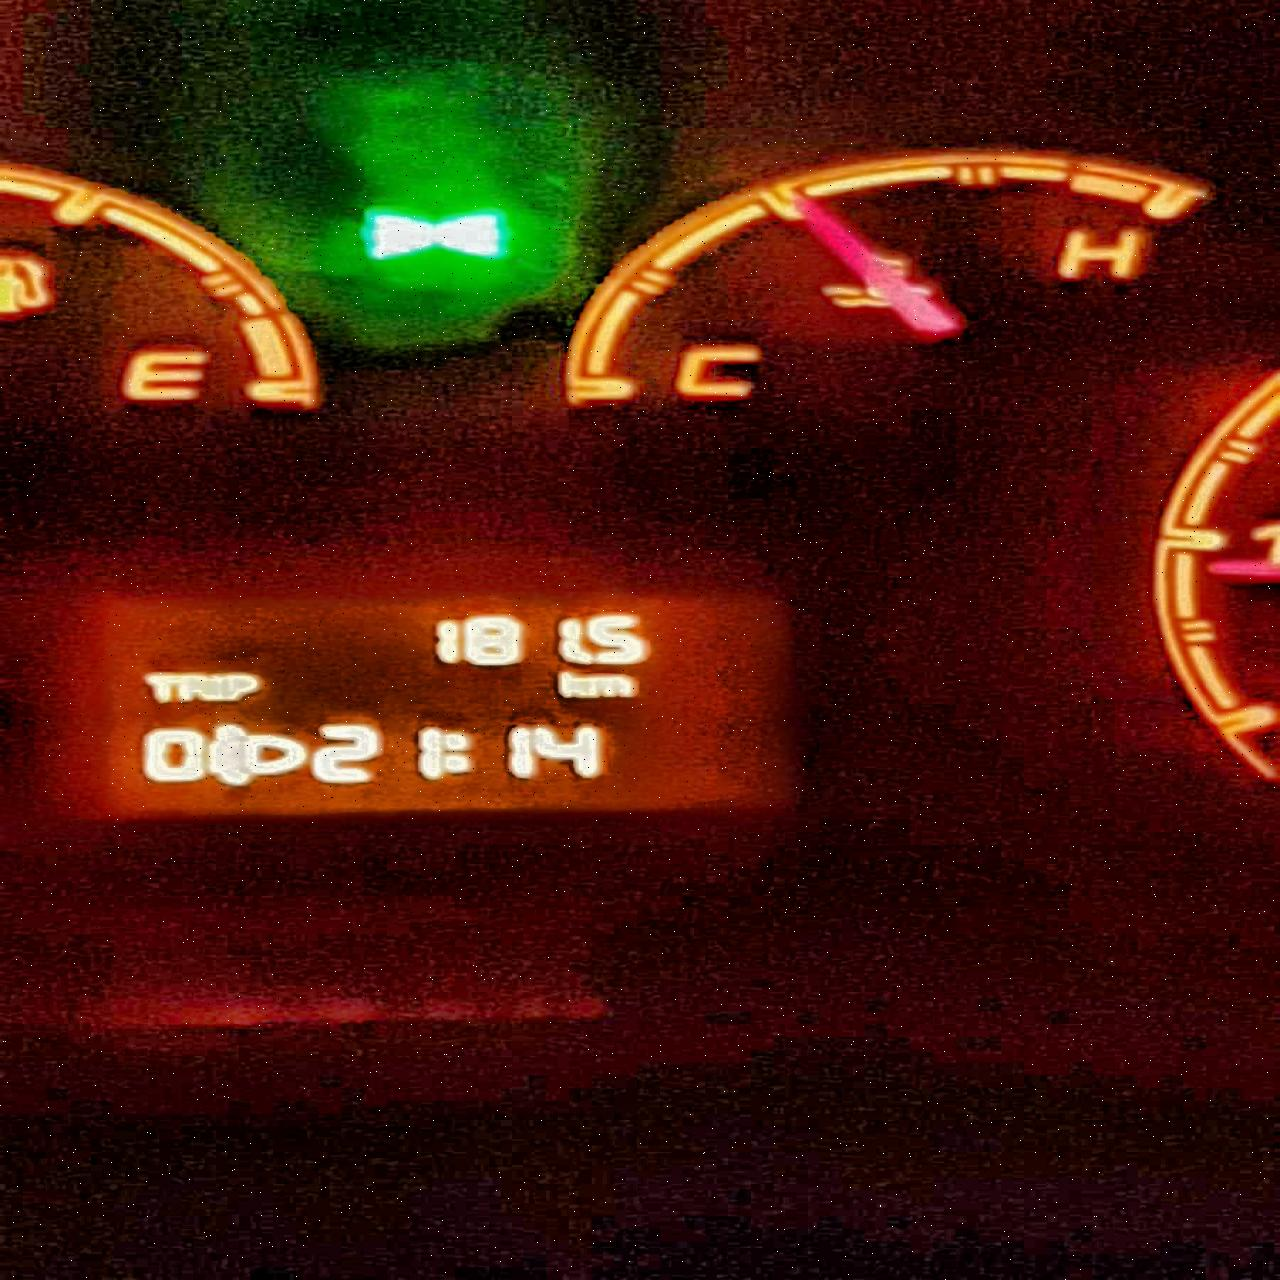-: (579, 648, 593, 663)
0: (139, 728, 206, 783)
1: (502, 724, 533, 778), (413, 726, 443, 779), (430, 619, 462, 663), (554, 617, 580, 662)
2: (308, 722, 381, 784)
4: (533, 723, 602, 778)
5: (585, 613, 646, 663)
8: (462, 613, 525, 666)
X: (441, 729, 474, 772), (139, 670, 178, 703), (586, 673, 636, 697), (223, 672, 261, 702), (176, 672, 209, 702), (554, 669, 587, 699), (207, 670, 226, 701)
odometer: (72, 581, 801, 829)
